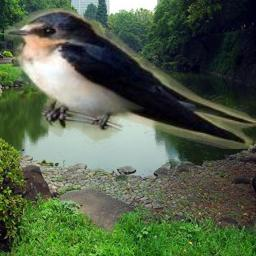Swallow: (4, 8, 256, 149)
